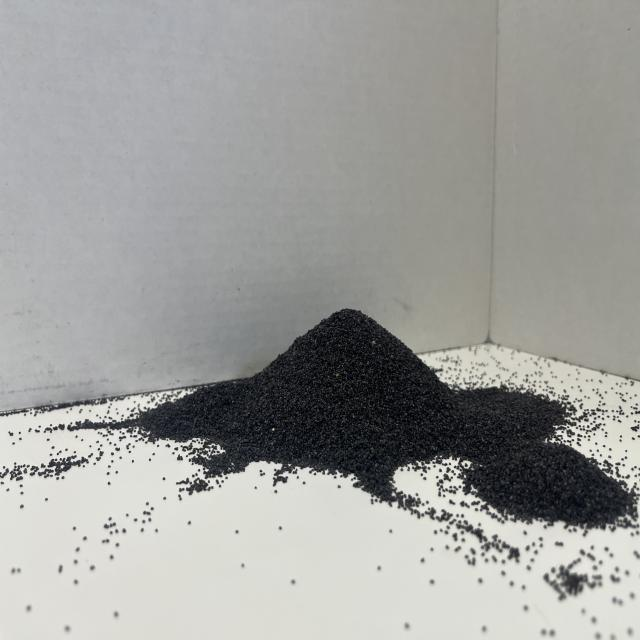Poppy Seeds: (139, 276, 628, 548)
